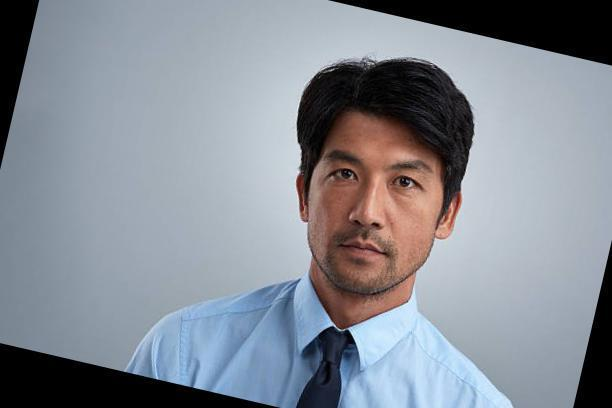Sober: (312, 114, 432, 291)
